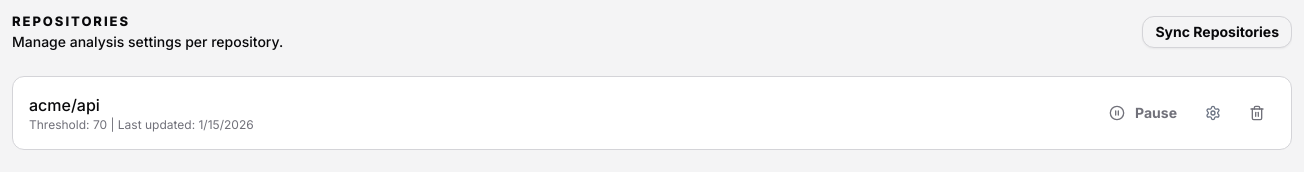
it: RepoList toggle button › changes button label after successful toggle
The width and height of the screenshot is (1304, 172).
Click the button titled "Pause analysis for this repo": (1143, 112) [1099,96,1187,128]
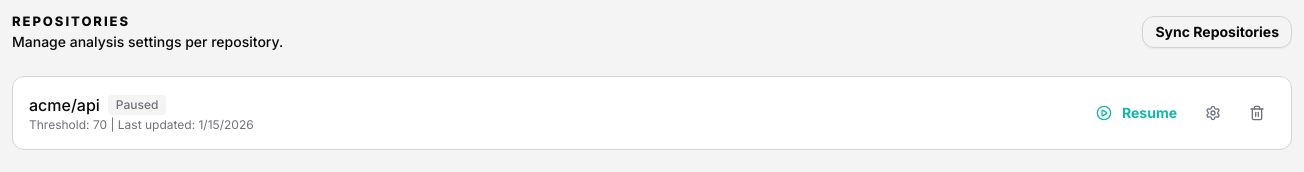
Expected: the button titled "Resume analysis" is shown, [1086,96,1187,128]
